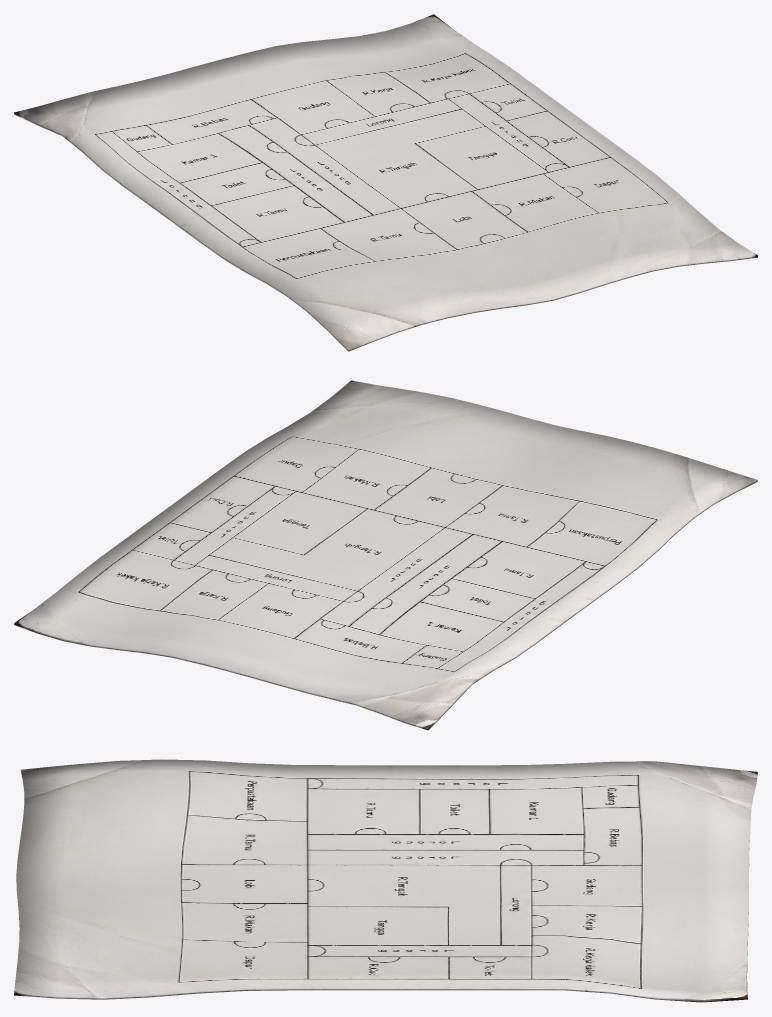
Rendered from Denah.fbx.
3 views of the same model, one above another, from view 1: azimuth 30°, elevation 25°; view 2: azimuth 150°, elevation 25°; view 3: azimuth 270°, elevation 25° (orthographic). The views are drawn at different scales.
Parts seen in each view (by area): view 1: Denah; view 2: Denah; view 3: Denah.
Boxes of the visible parts, box(x1,y1,x2,y2) form: Denah: box(14, 14, 757, 351); Denah: box(14, 380, 757, 730); Denah: box(14, 759, 757, 1002).
Size of the model in its own units: 33.15 by 2 by 46.01.
1 material, 1 textured.
